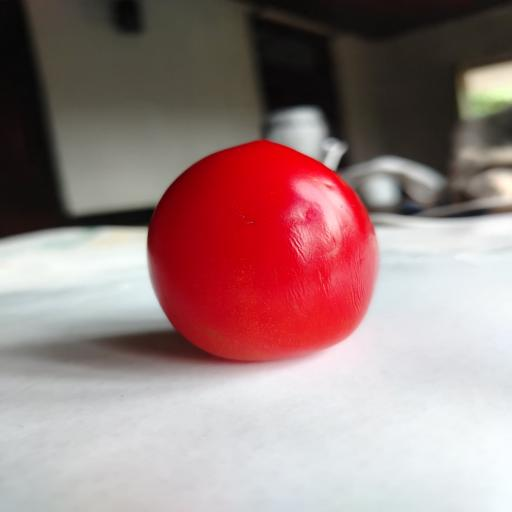ripe: (148, 141, 378, 360)
